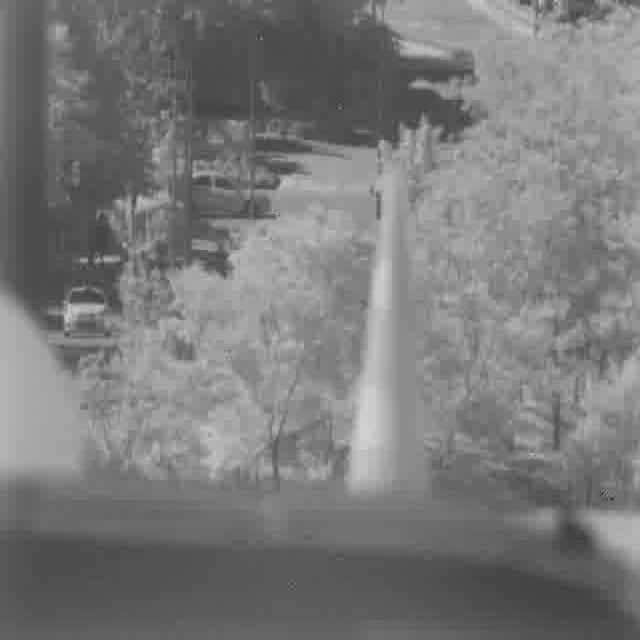Car: (0, 485, 639, 640), (63, 284, 112, 344)
